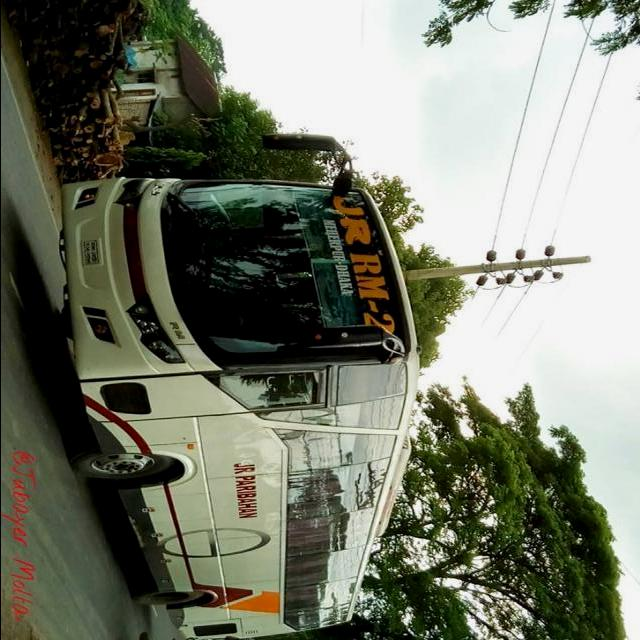bus: (54, 135, 421, 640)
